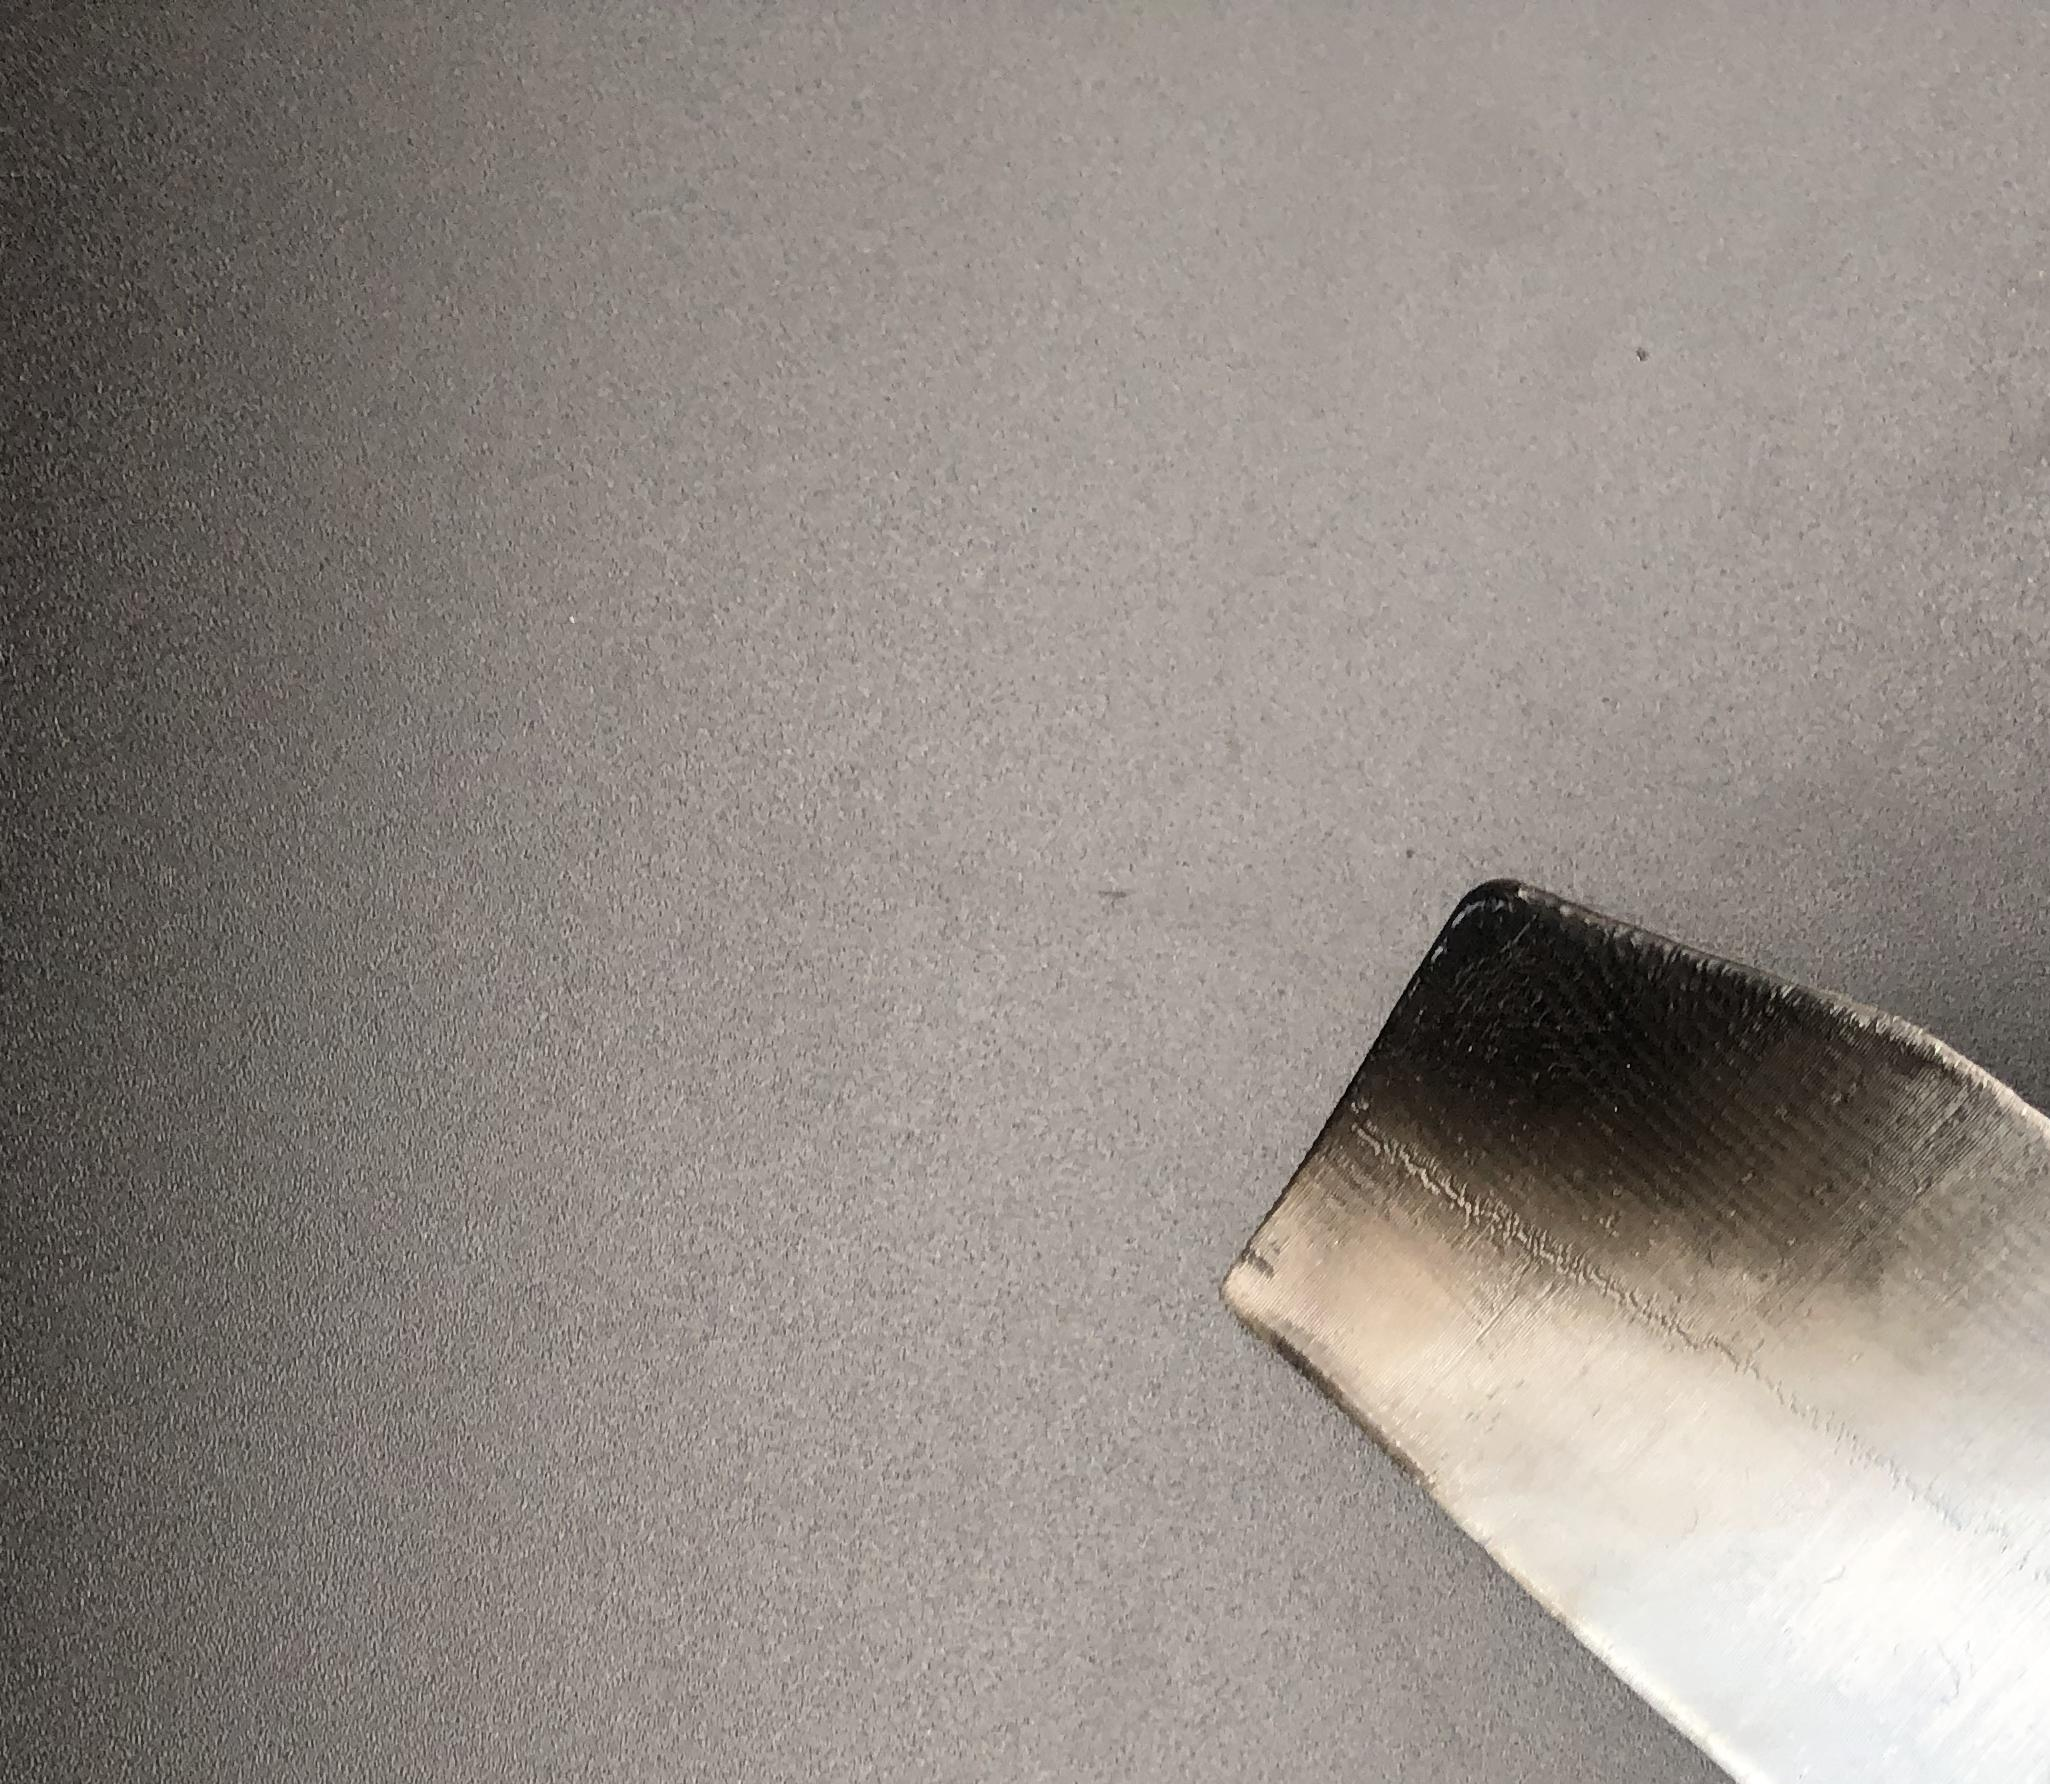ablation: (1424, 910, 1879, 1277)
